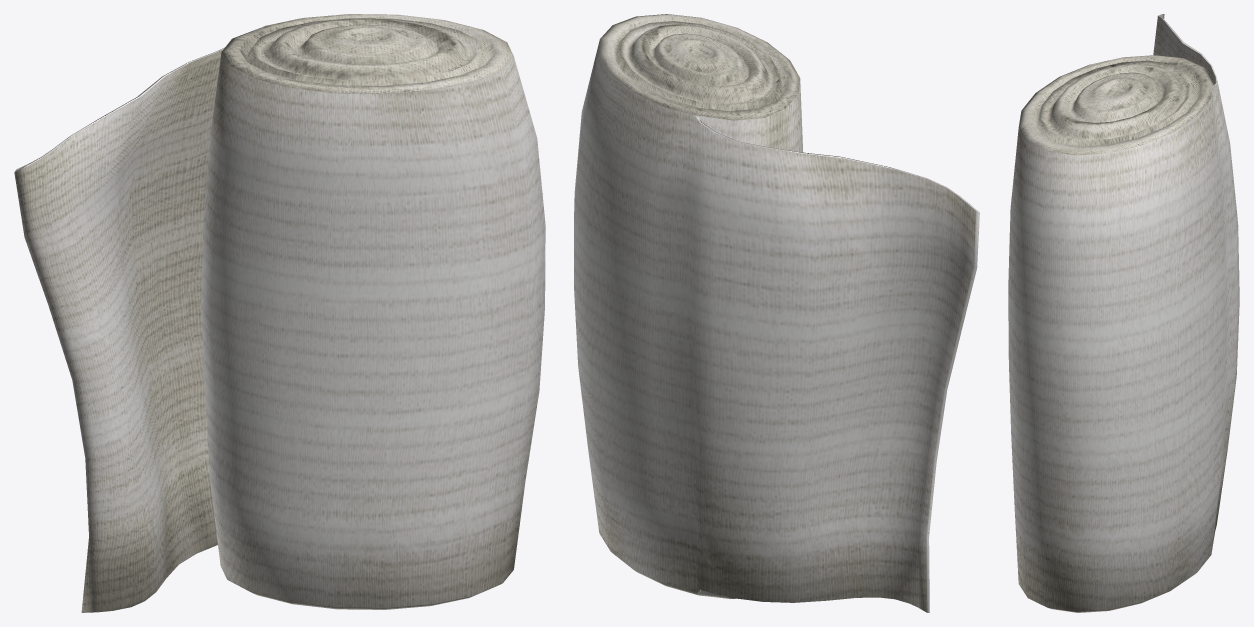
File: bandage_01.FBX
3 renders of one model, left to right at view 1: azimuth 30°, elevation 25°; view 2: azimuth 150°, elevation 25°; view 3: azimuth 270°, elevation 25°, orthographic. The views are drawn at different scales.
Visible parts, largest first — view 1: Line002; view 2: Line002; view 3: Line002.
Boxes of the visible parts, left/top/right/bottom form: Line002: left=14, top=14, right=545, bottom=612; Line002: left=574, top=14, right=979, bottom=612; Line002: left=1008, top=14, right=1239, bottom=612.
Size of the model in its own units: 12.19 by 13.31 by 5.82.
Materials: 1 (1 with a texture image).
